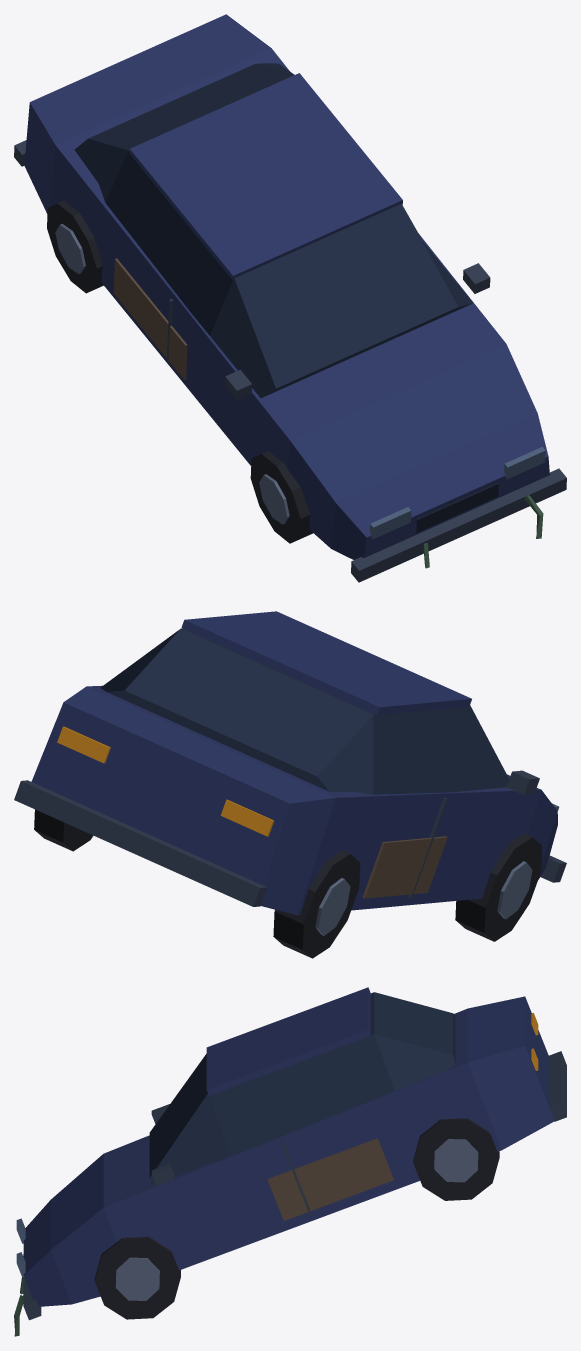
File: dock_half_sunken_car.glb
3 views of the same model, one above another, from view 1: azimuth 30°, elevation 25°; view 2: azimuth 150°, elevation 25°; view 3: azimuth 270°, elevation 25° (orthographic). The views are drawn at different scales.
Parts seen in each view (by area): view 1: body, cabin_glass, trim, wheel, rust, hub, headlight, grille; view 2: body, cabin_glass, wheel, trim, rust, hub, tail_lamp; view 3: body, cabin_glass, wheel, rust, hub, trim.
Boxes of the visible parts, x1,y1,x2,y2 form: body: (24,14,549,559); cabin_glass: (74,63,472,398); trim: (14,140,566,582); wheel: (47,200,313,543); rust: (113,258,187,379); hub: (55,223,289,524); headlight: (370,447,545,539); grille: (416,483,498,532); body: (31,611,557,915); cabin_glass: (100,628,509,794); wheel: (34,809,542,958); trim: (14,770,566,906); rust: (362,836,447,898); hub: (315,861,532,935); tail_lamp: (57,726,273,836); body: (23,987,554,1306); cabin_glass: (149,992,455,1185); wheel: (94,1118,499,1319); rust: (267,1138,393,1220); hub: (115,1139,478,1300); trim: (23,1051,566,1320).
Bounding box in the file's own units: 2.12 × 2.49 × 4.22.
